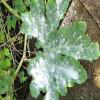Squash Powdery mildew leaf: (20, 0, 99, 99)
